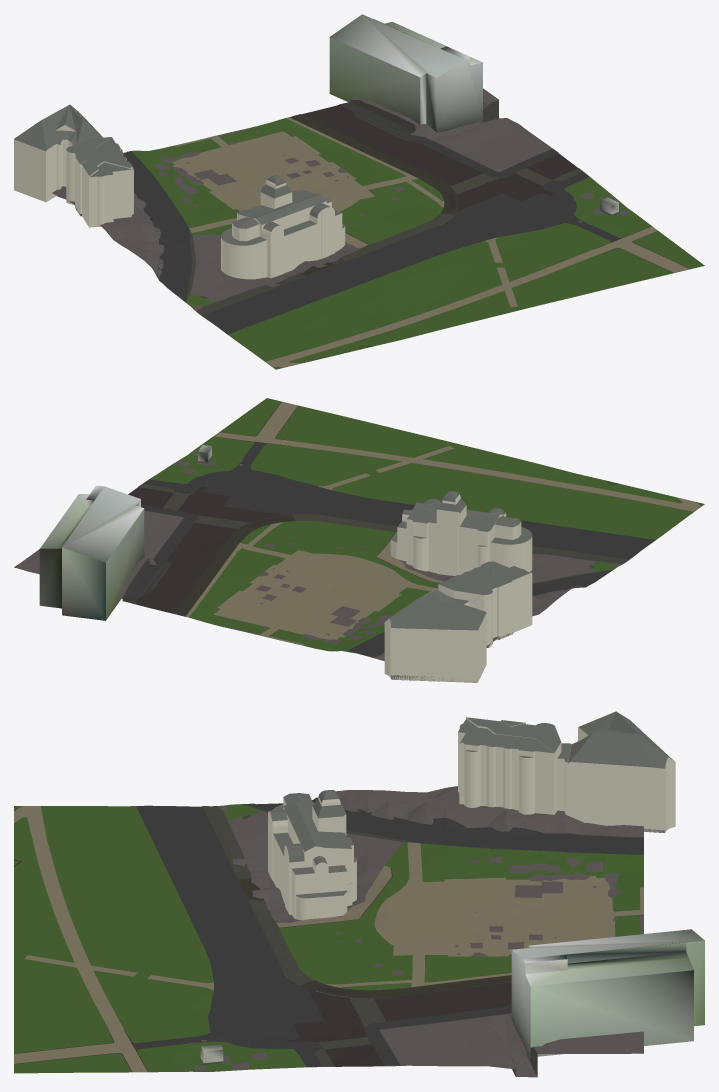
3 views of the same model, one above another, from view 1: azimuth 30°, elevation 25°; view 2: azimuth 150°, elevation 25°; view 3: azimuth 270°, elevation 25° (orthographic). The views are drawn at different scales.
Visible parts, largest first — view 1: c_m05_p12; view 2: c_m05_p12; view 3: c_m05_p12.
Part boxes in pixels (x1,y1,x2,y2): c_m05_p12: (14,14,704,369); c_m05_p12: (14,398,704,682); c_m05_p12: (14,711,704,1077).
Bounding box in the file's own units: 134 × 23.32 × 140.
